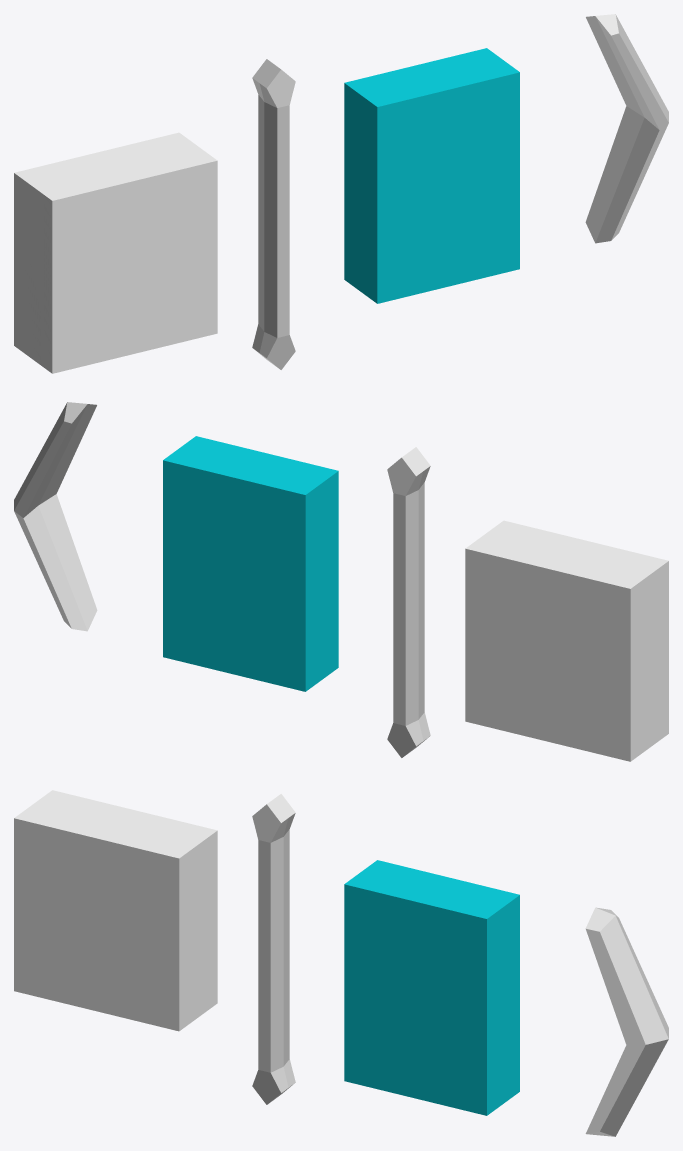
The model's file is SimpleUI.glb.
3 views of the same model, one above another, from view 1: azimuth 30°, elevation 25°; view 2: azimuth 150°, elevation 25°; view 3: azimuth 330°, elevation 25° (orthographic).
Parts seen in each view (by area): view 1: Speed-Simple, Directions-Simple, MiddleSeperator, SideBars-Simple; view 2: Speed-Simple, Directions-Simple, MiddleSeperator, SideBars-Simple; view 3: Speed-Simple, Directions-Simple, MiddleSeperator, SideBars-Simple.
Part boxes in pixels (bbox=[...]): Speed-Simple: bbox=[14, 132, 217, 373]; Directions-Simple: bbox=[344, 48, 519, 303]; MiddleSeperator: bbox=[252, 59, 295, 369]; SideBars-Simple: bbox=[585, 14, 668, 243]; Speed-Simple: bbox=[465, 520, 668, 761]; Directions-Simple: bbox=[163, 436, 338, 691]; MiddleSeperator: bbox=[387, 447, 430, 757]; SideBars-Simple: bbox=[14, 402, 97, 631]; Speed-Simple: bbox=[14, 790, 217, 1031]; Directions-Simple: bbox=[344, 860, 519, 1115]; MiddleSeperator: bbox=[252, 794, 295, 1104]; SideBars-Simple: bbox=[585, 907, 668, 1136].
Bounding box in the file's own units: 4.42 × 2 × 0.4631.
